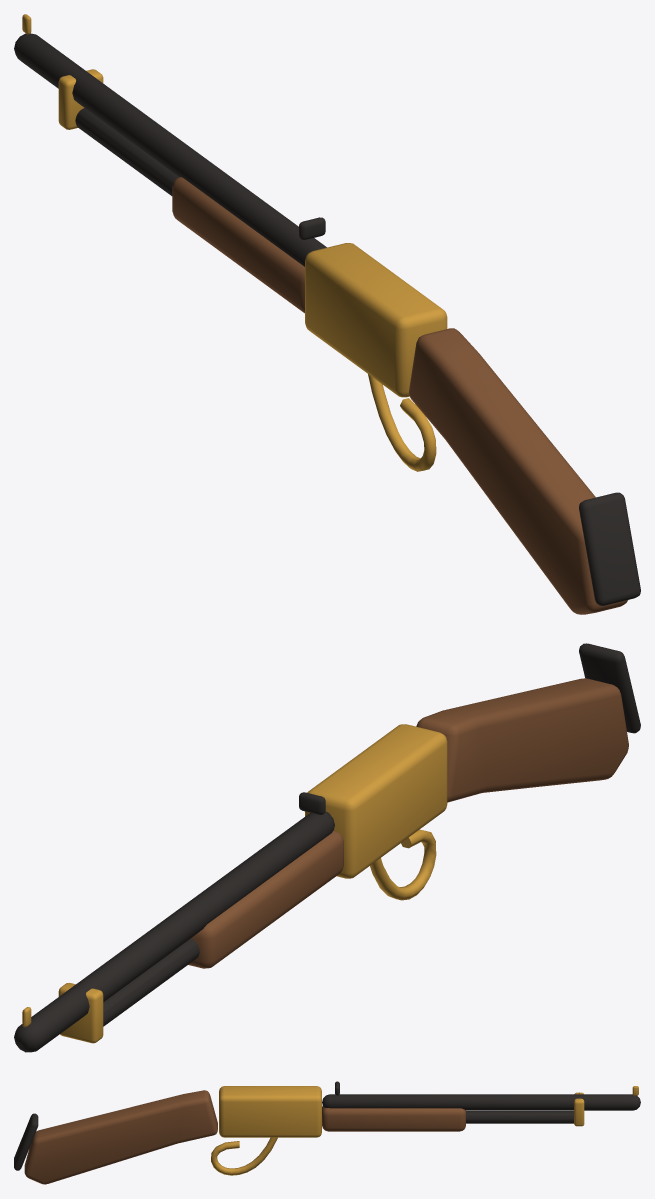
The model's file is rifle.glb.
The picture shows the model from 3 angles, top to bottom: view 1: azimuth 30°, elevation 25°; view 2: azimuth 150°, elevation 25°; view 3: azimuth 270°, elevation 25°; orthographic projection. The views are drawn at different scales.
Visible parts, largest first — view 1: stock, receiver, barrel, forend, buttplate, magtube, lever_loop, band; view 2: stock, receiver, barrel, forend, magtube, buttplate, lever_loop, band; view 3: stock, receiver, barrel, forend, magtube, lever_loop, buttplate, band.
Boxes of the visible parts, x1,y1,x2,y2 form: stock: [409, 328, 627, 614]; receiver: [305, 243, 447, 397]; barrel: [14, 33, 326, 266]; forend: [172, 177, 304, 313]; buttplate: [579, 492, 640, 605]; magtube: [75, 108, 178, 195]; lever_loop: [368, 374, 436, 471]; band: [58, 69, 103, 129]; stock: [416, 678, 628, 802]; receiver: [305, 724, 447, 878]; barrel: [14, 811, 334, 1052]; forend: [188, 830, 343, 968]; magtube: [103, 938, 199, 1026]; buttplate: [579, 643, 640, 733]; lever_loop: [370, 829, 436, 900]; band: [58, 983, 103, 1043]; stock: [24, 1090, 217, 1184]; receiver: [219, 1086, 321, 1137]; barrel: [322, 1094, 640, 1110]; forend: [322, 1106, 465, 1131]; magtube: [466, 1111, 573, 1123]; lever_loop: [211, 1137, 277, 1175]; buttplate: [14, 1113, 38, 1170]; band: [574, 1092, 584, 1126].
Bounding box in the file's own units: 0.06 × 0.2083 × 1.22.
